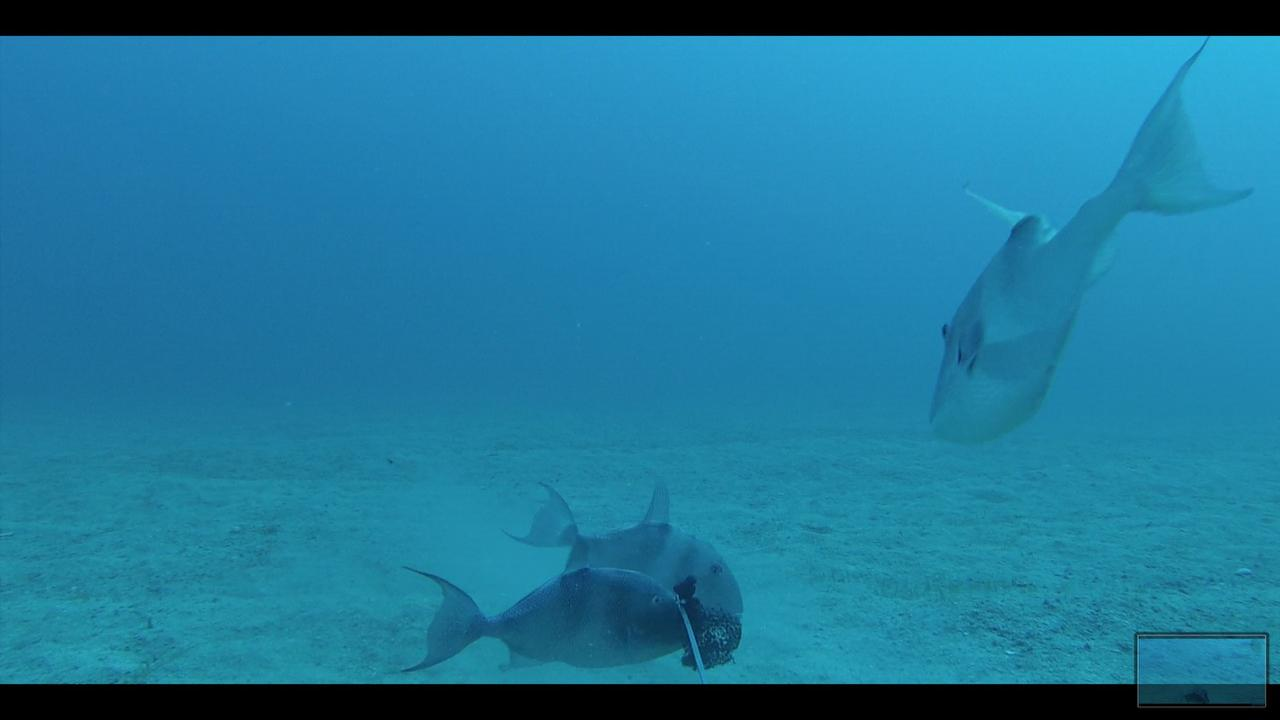balistes: (897, 37, 1258, 447), (387, 538, 693, 675), (496, 470, 744, 621)
